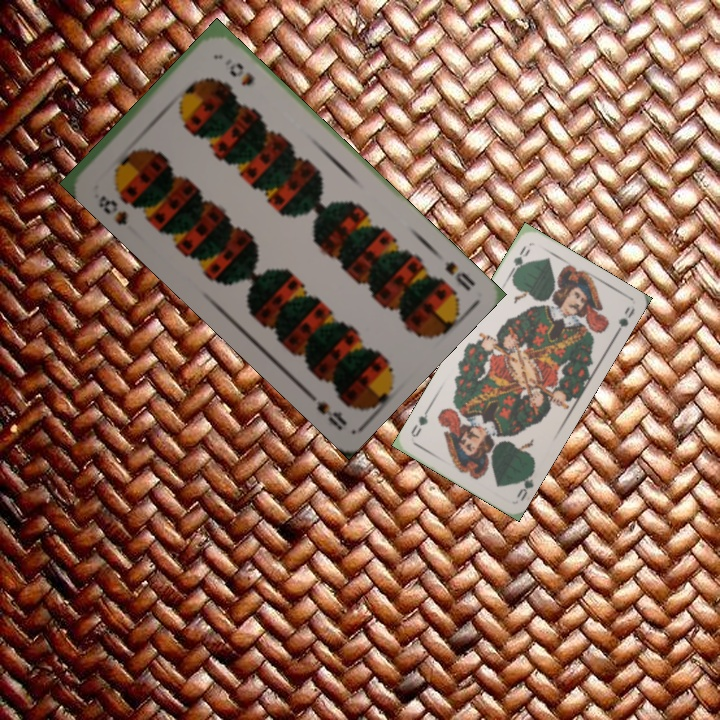GO: (505, 241, 533, 280), (513, 465, 538, 504)
S8: (440, 257, 478, 294), (94, 191, 130, 228)
